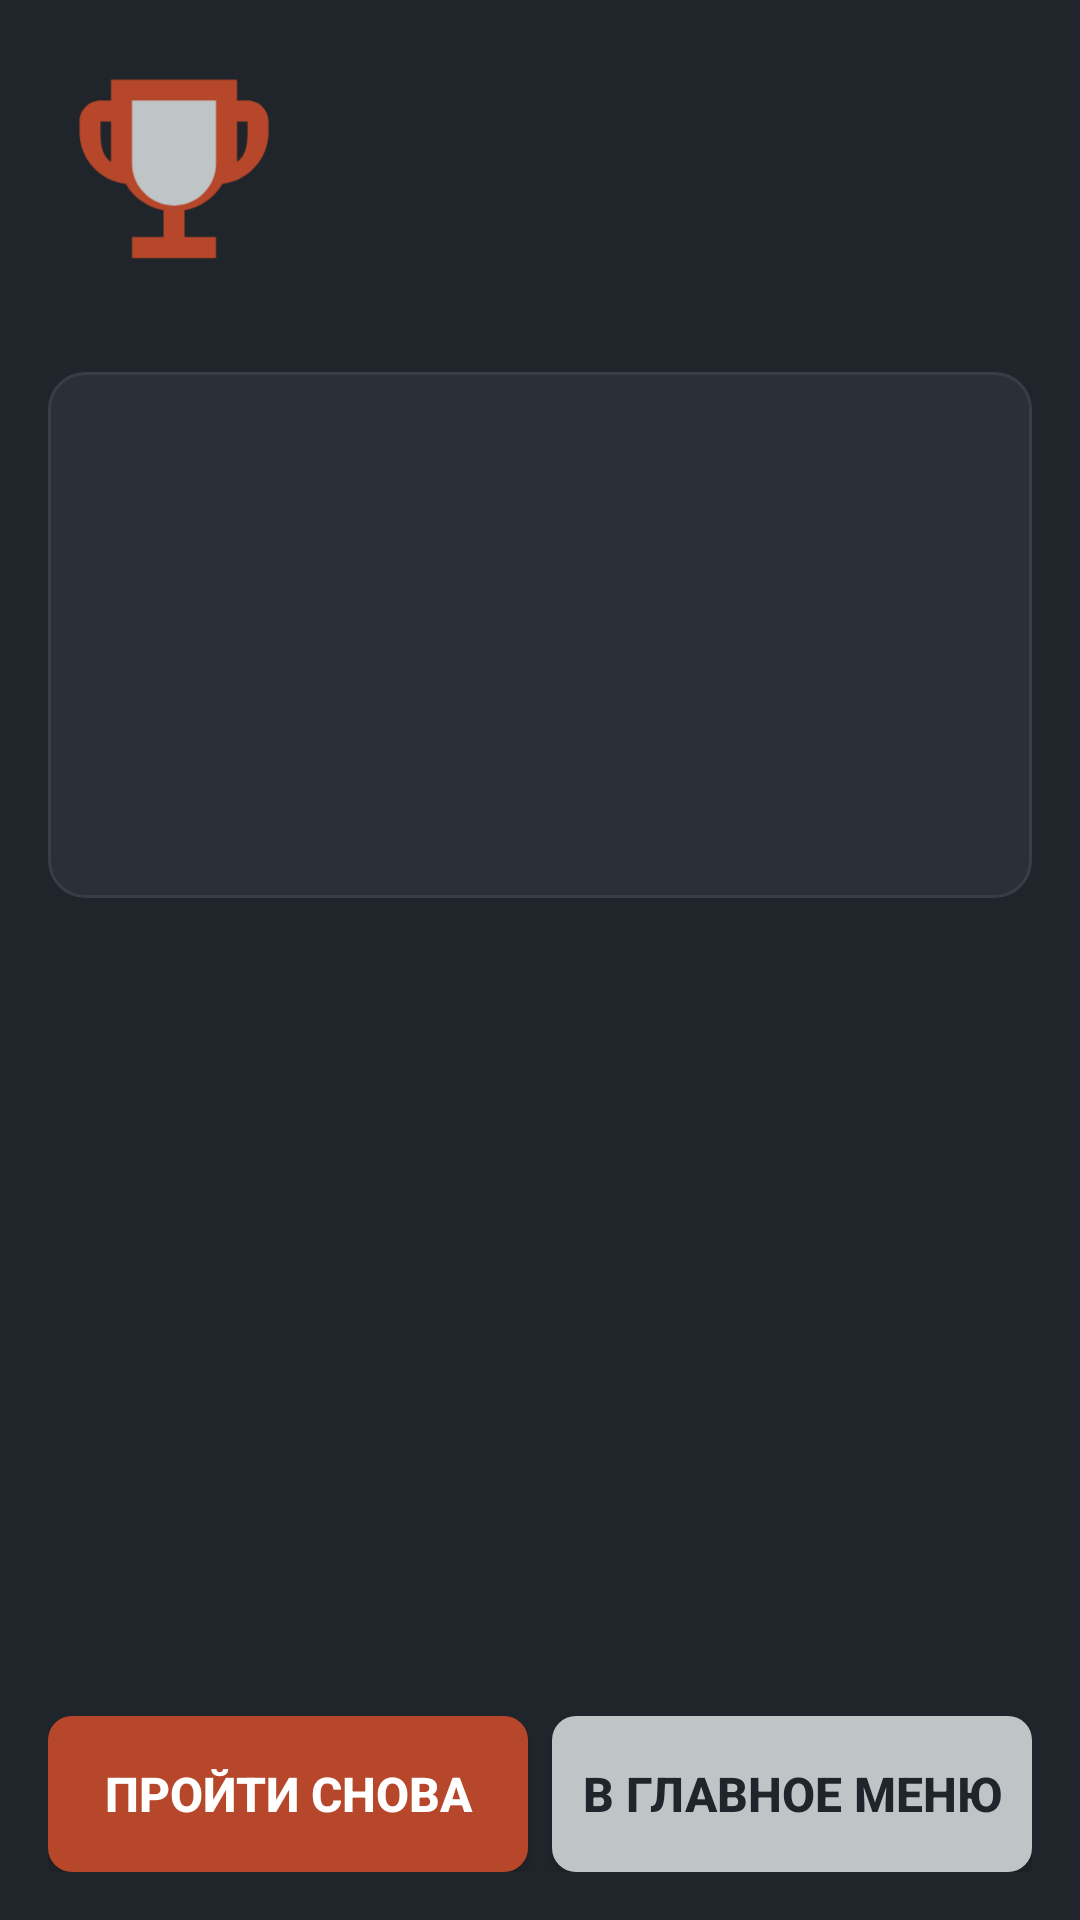

Point at icon controls on the screen. Image size 1080*1920, points as point (x, y).
Иконка кубка: point (174, 169)
